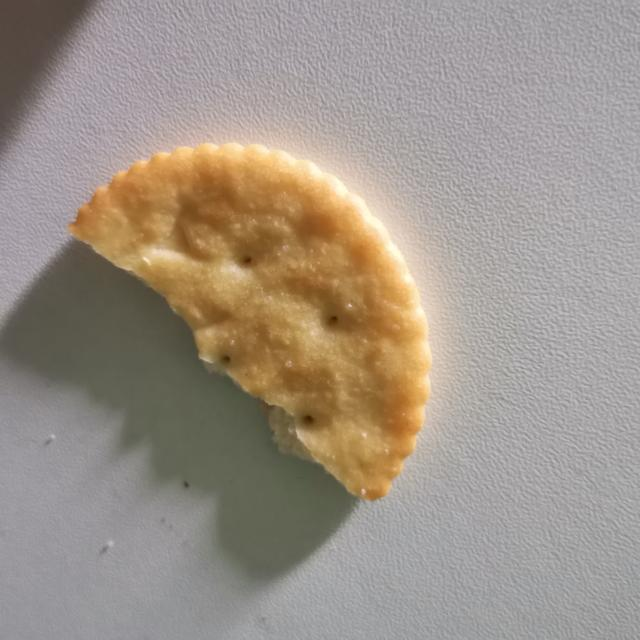Broken: (66, 140, 433, 503)
